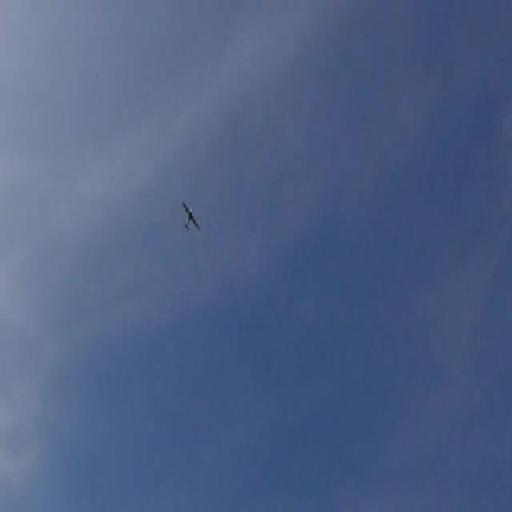uav: (178, 192, 204, 238)
